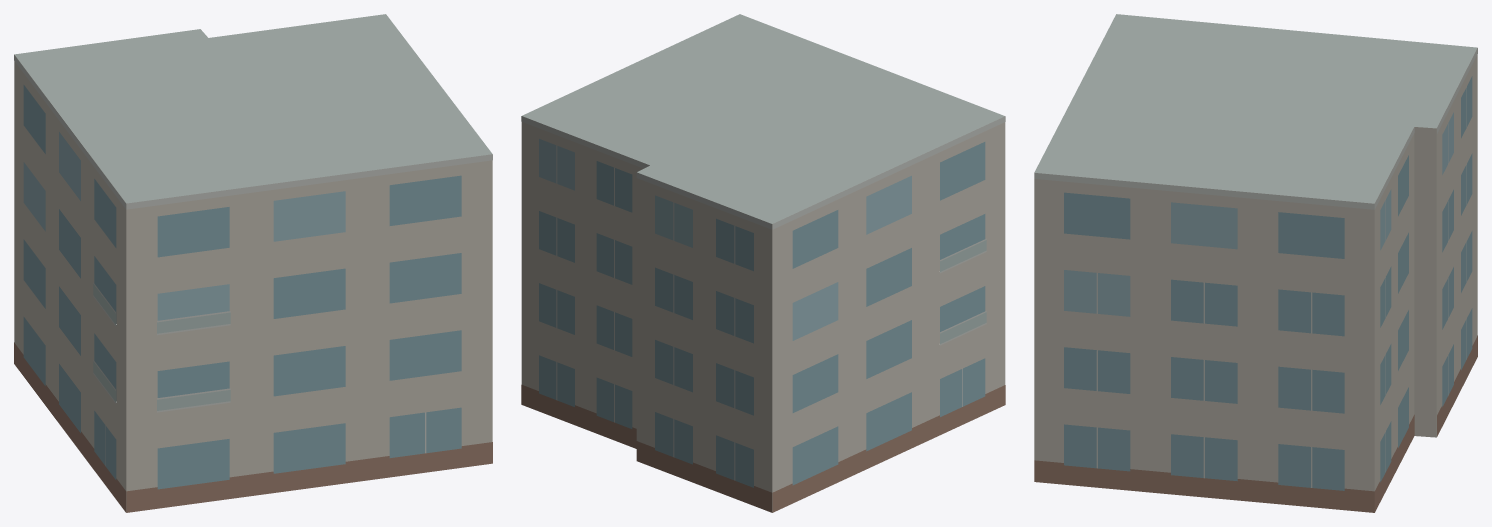
Rendered from survey-upis-32704933.glb.
The picture shows the model from 3 angles, left to right: view 1: azimuth 30°, elevation 25°; view 2: azimuth 150°, elevation 25°; view 3: azimuth 270°, elevation 25°; orthographic projection. The views are drawn at different scales.
Parts seen in each view (by area): view 1: survey-upis-32704933.tmp; view 2: survey-upis-32704933.tmp; view 3: survey-upis-32704933.tmp.
Part boxes in pixels (left/top/right/bottom): survey-upis-32704933.tmp: left=14, top=14, right=492, bottom=512; survey-upis-32704933.tmp: left=521, top=14, right=1005, bottom=512; survey-upis-32704933.tmp: left=1034, top=14, right=1477, bottom=512.
Size of the model in its own units: 16.24 by 12.33 by 16.04.
